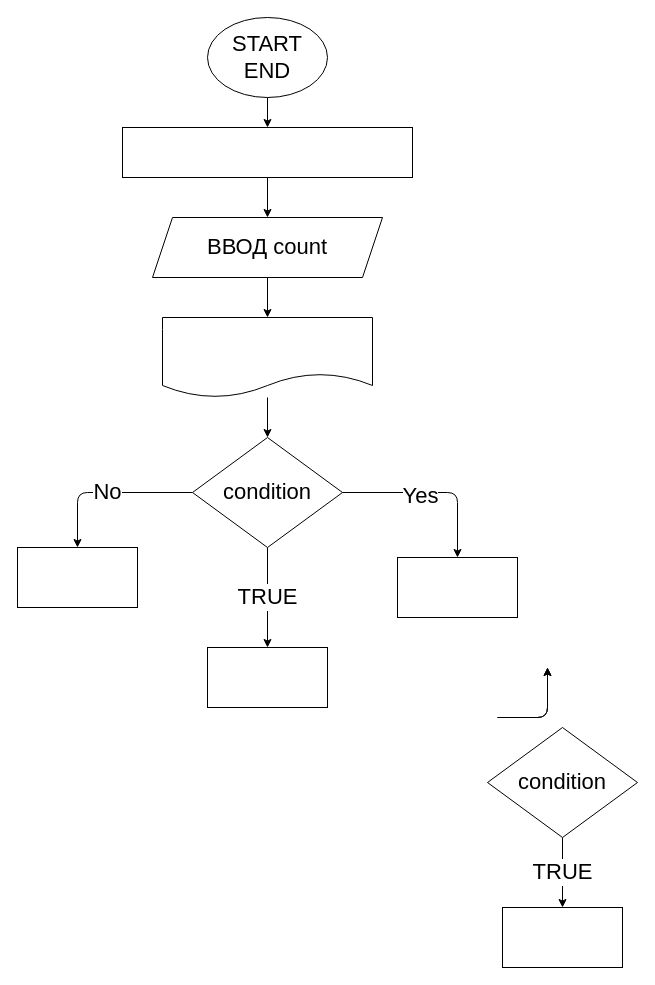
This 655x985 diagram has some shape labels left out. Each missing label, with the centre of its shape:
"count = 0 res = 1 *Sqrt(2)" belongs at pixel 267 152.
"ВЫВОД res" belongs at pixel 267 357.
